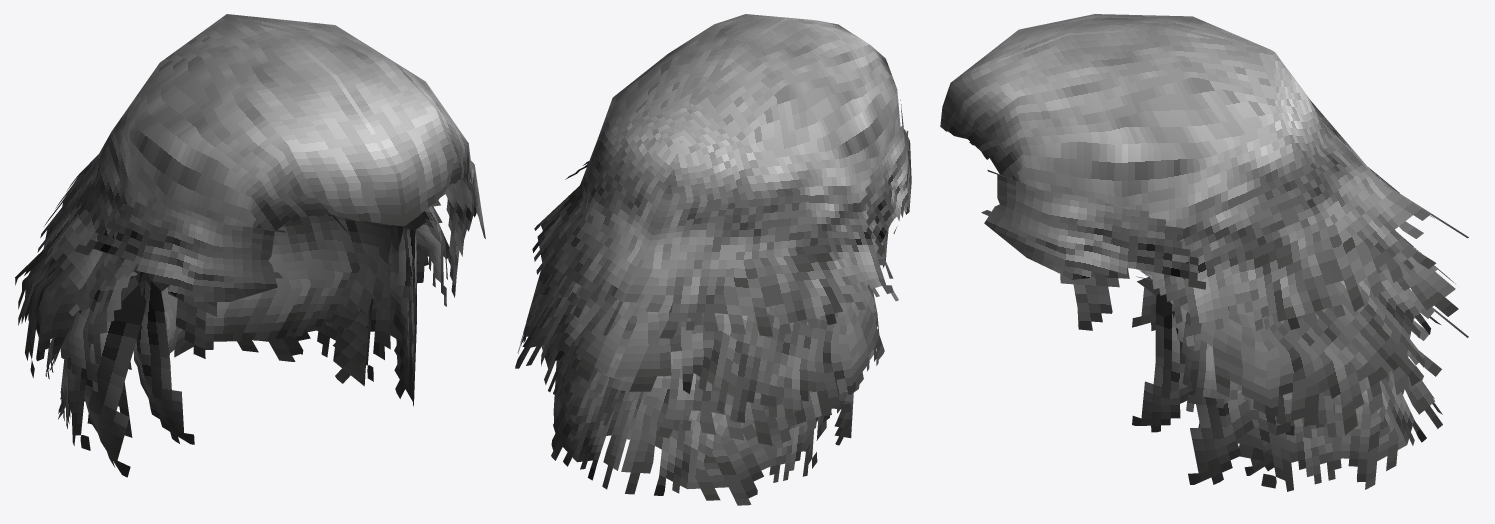
Rendered from m_head013.glb.
3 views of the same model, side by side, from view 1: azimuth 30°, elevation 25°; view 2: azimuth 150°, elevation 25°; view 3: azimuth 270°, elevation 25° (orthographic). The views are drawn at different scales.
Bounding box in the file's own units: 23.93 × 23.72 × 27.7.
1 material, 1 textured.
